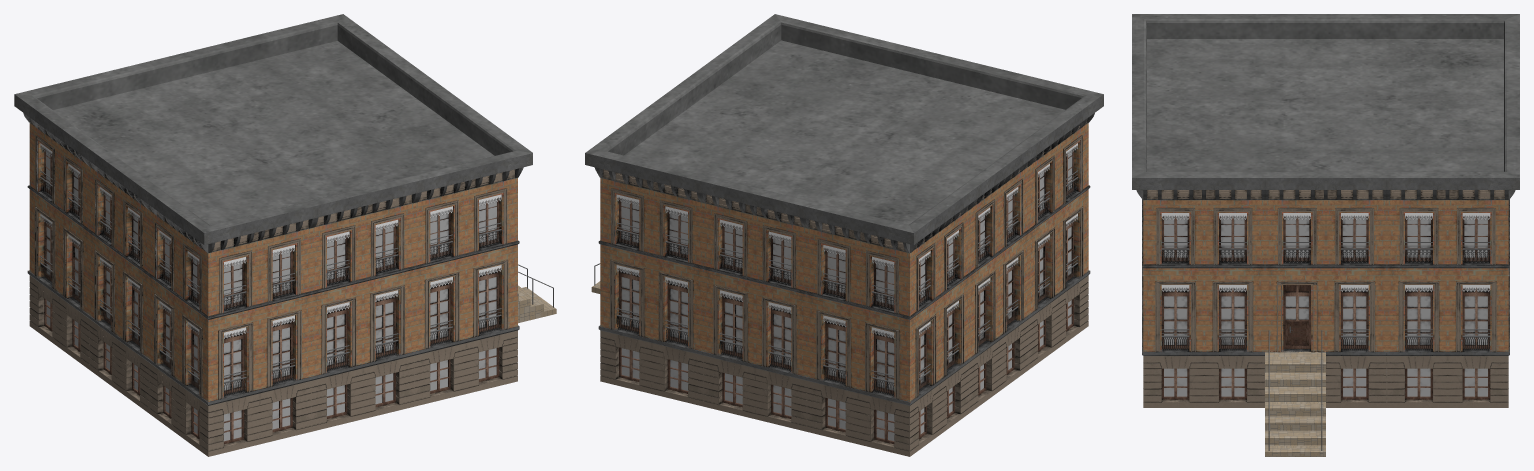
The model's file is modular_building.glb.
3 renders of one model, left to right at view 1: azimuth 30°, elevation 25°; view 2: azimuth 150°, elevation 25°; view 3: azimuth 270°, elevation 25°, orthographic. The views are drawn at different scales.
Visible parts, largest first — view 1: TexturesCom_BuildingsNeoclassical0032_M.009_TexturesCom_Buil (×2), TexturesCom_BuildingsNeoclassical0032_M.009, TexturesCom_BuildingsNeoclassical0032_M.009_Gard Special Tes; view 2: TexturesCom_BuildingsNeoclassical0032_M.009_TexturesCom_Buil (×2), TexturesCom_BuildingsNeoclassical0032_M.009, TexturesCom_BuildingsNeoclassical0032_M.009_Gard Special Tes; view 3: TexturesCom_BuildingsNeoclassical0032_M.009_TexturesCom_Buil (×2), TexturesCom_BuildingsNeoclassical0032_M.009, TexturesCom_BuildingsNeoclassical0032_M.009_Gard Special Tes.
Boxes of the visible parts, x1,y1,x2,y2 form: TexturesCom_BuildingsNeoclassical0032_M.009_TexturesCom_Buil (×2): (14,94,553,456); TexturesCom_BuildingsNeoclassical0032_M.009: (15,14,556,396); TexturesCom_BuildingsNeoclassical0032_M.009_Gard Special Tes: (41,179,500,310); TexturesCom_BuildingsNeoclassical0032_M.009_TexturesCom_Buil (×2): (585,94,1103,456); TexturesCom_BuildingsNeoclassical0032_M.009: (585,14,1103,396); TexturesCom_BuildingsNeoclassical0032_M.009_Gard Special Tes: (617,179,1077,310); TexturesCom_BuildingsNeoclassical0032_M.009_TexturesCom_Buil (×2): (1132,178,1519,450); TexturesCom_BuildingsNeoclassical0032_M.009: (1132,14,1519,456); TexturesCom_BuildingsNeoclassical0032_M.009_Gard Special Tes: (1161,250,1490,263).
Bounding box in the file's own units: 1238 × 654 × 975.
Materials: 5 (5 with a texture image).
